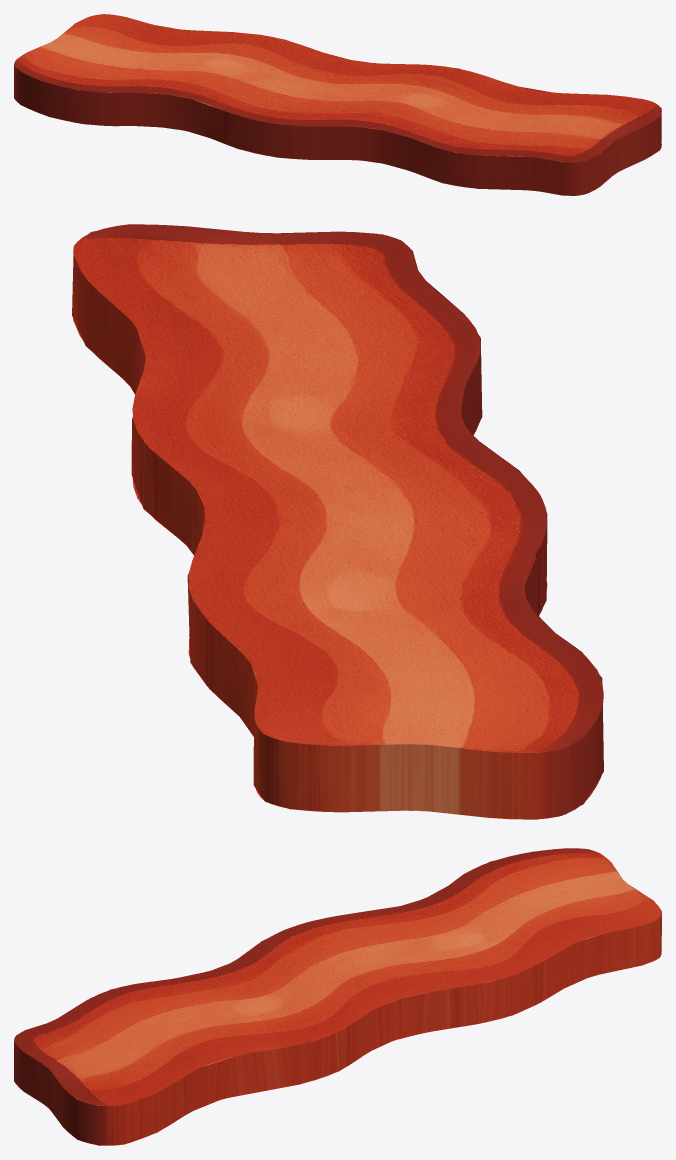
The model's file is bacon.glb.
3 renders of one model, top to bottom at view 1: azimuth 30°, elevation 25°; view 2: azimuth 150°, elevation 25°; view 3: azimuth 270°, elevation 25°, orthographic. The views are drawn at different scales.
Visible parts, largest first — view 1: OuterCurve; view 2: OuterCurve; view 3: OuterCurve.
Part boxes in pixels (x1=…): OuterCurve: x1=14, y1=14, x2=661, y2=195; OuterCurve: x1=72, y1=224, x2=603, y2=819; OuterCurve: x1=14, y1=848, x2=661, y2=1145.
Size of the model in its own units: 5.58 by 0.4 by 5.92.
Materials: 1 (1 with a texture image).
